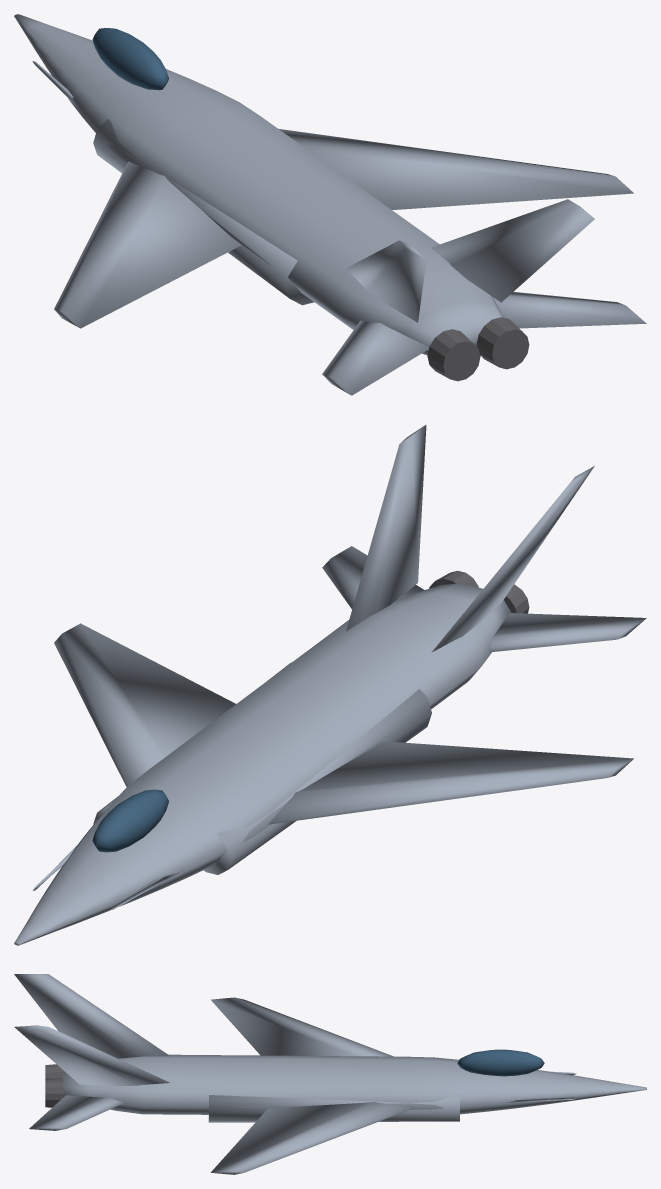
The picture shows the model from 3 angles, top to bottom: view 1: azimuth 30°, elevation 25°; view 2: azimuth 150°, elevation 25°; view 3: azimuth 270°, elevation 25°; orthographic projection. The views are drawn at different scales.
Parts seen in each view (by area): view 1: Body, Detail, Canopy; view 2: Body, Canopy, Detail; view 3: Body, Canopy, Detail.
Part boxes in pixels (box(x1,y1,x2,y2)): Body: box(14, 14, 646, 395); Detail: box(427, 317, 529, 381); Canopy: box(92, 28, 168, 90); Body: box(14, 425, 646, 945); Canopy: box(92, 789, 168, 852); Detail: box(429, 570, 529, 613); Body: box(14, 974, 646, 1174); Canopy: box(457, 1049, 544, 1076); Detail: box(45, 1064, 63, 1107).
Size of the model in its own units: 1410 by 403 by 2178.
